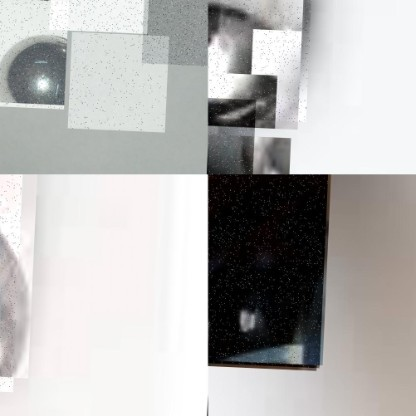ironball: (208, 174, 330, 365), (208, 0, 313, 119), (68, 29, 169, 128), (0, 0, 68, 106), (141, 0, 208, 62), (49, 0, 149, 30)
